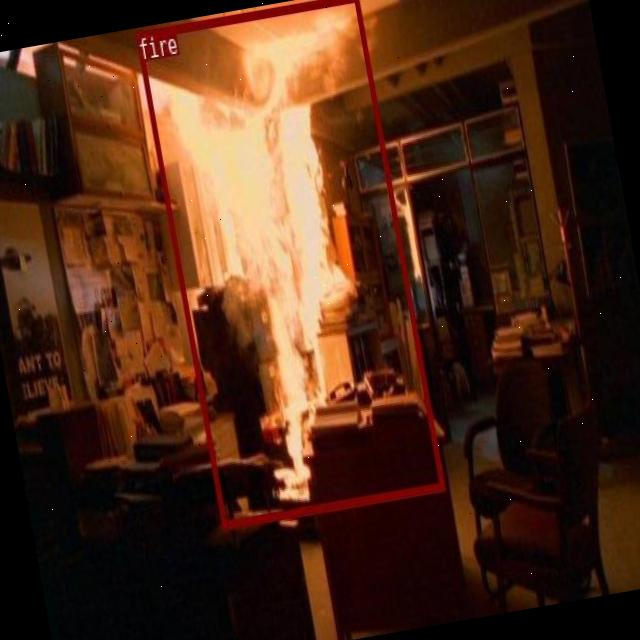fire: (134, 0, 444, 527)
